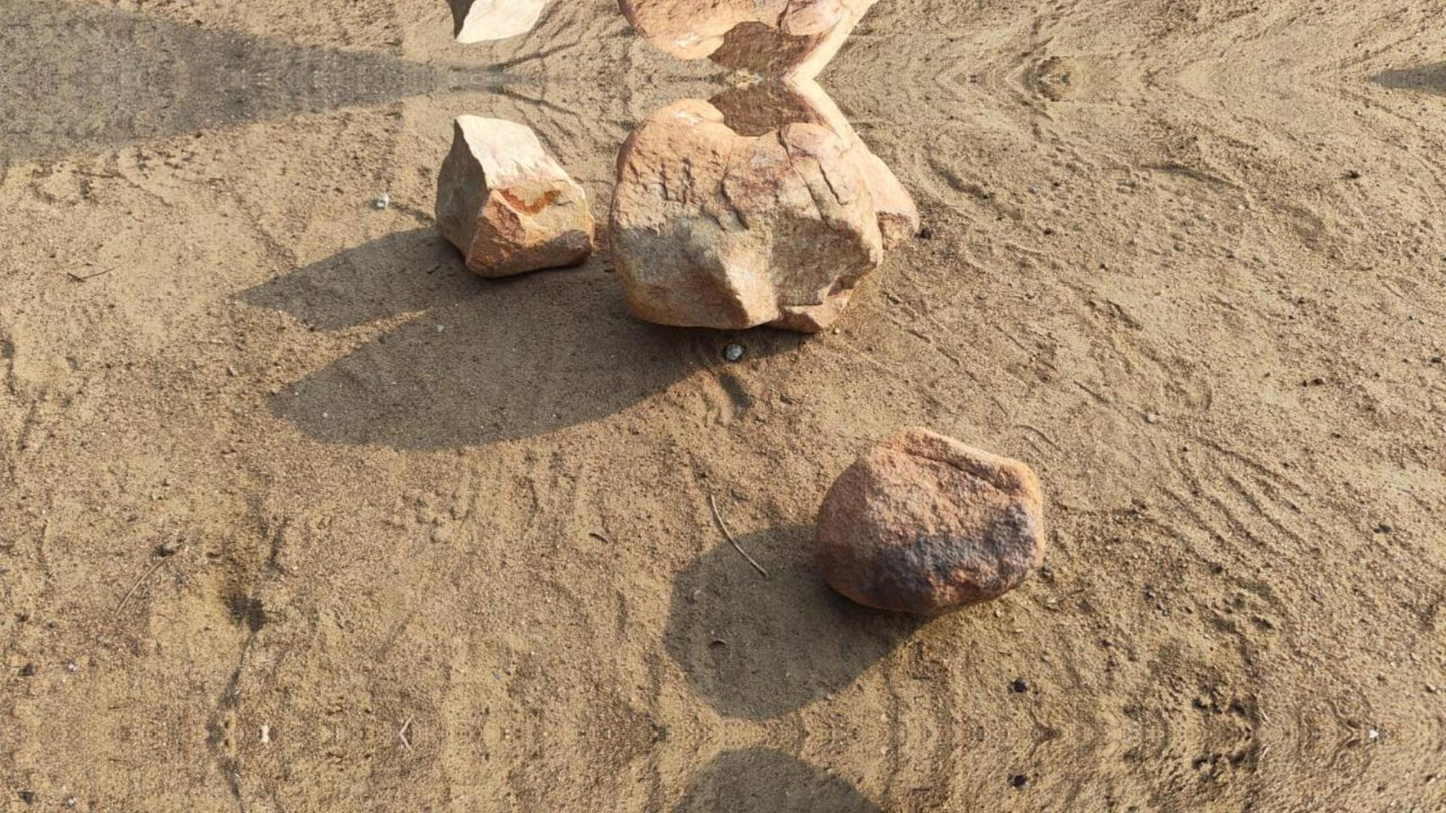rock: (610, 99, 882, 331), (816, 428, 1044, 615), (436, 115, 593, 277), (619, 0, 873, 59), (447, 0, 550, 42)
